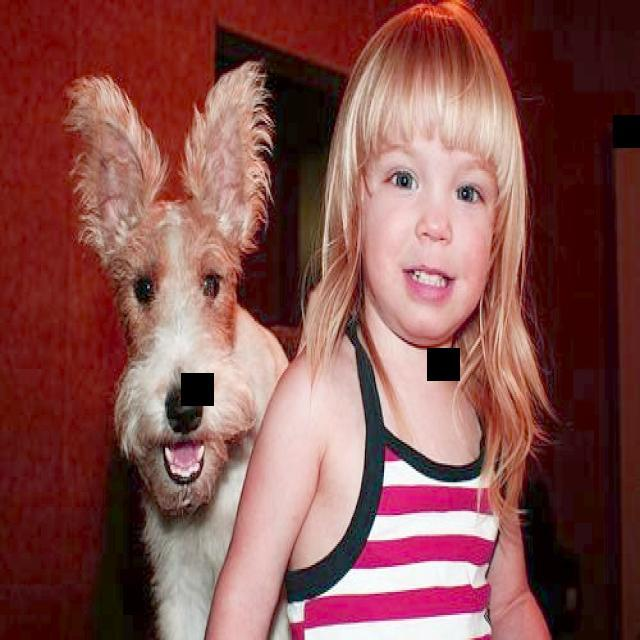adult_dog: (55, 58, 298, 640)
non-dog: (202, 1, 559, 639)
